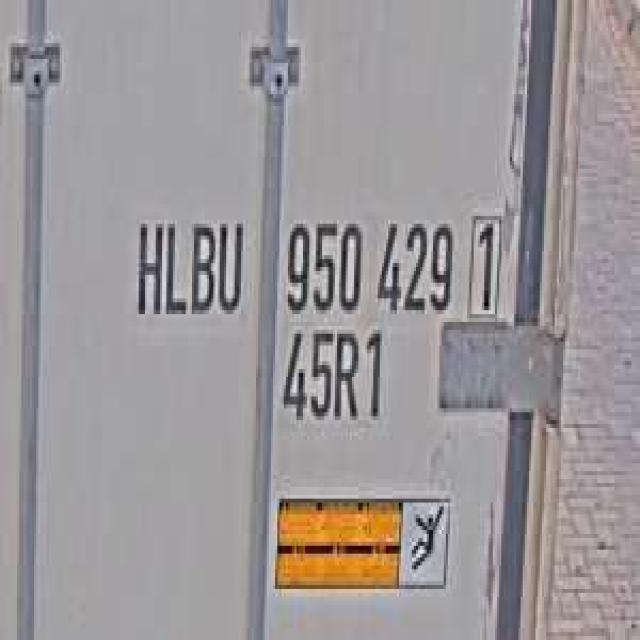dv: (463, 204, 503, 322)
owner: (130, 200, 248, 330)
serial: (278, 200, 457, 322)
size: (277, 322, 386, 432)
